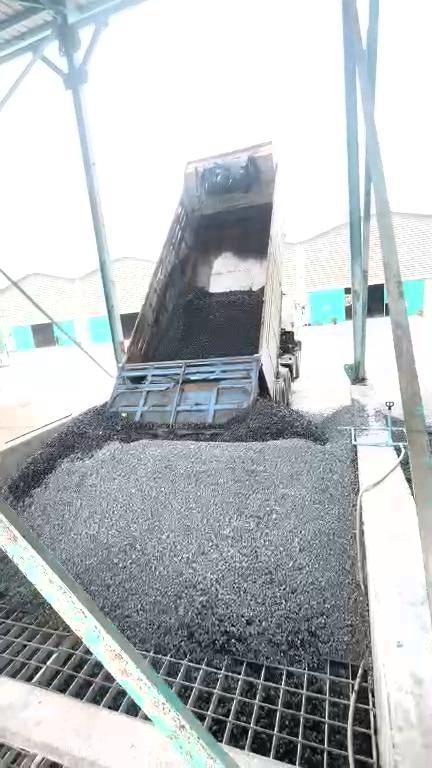gravel: (1, 378, 369, 665), (144, 288, 263, 360), (1, 554, 44, 612)
sand: (1, 400, 36, 443)
